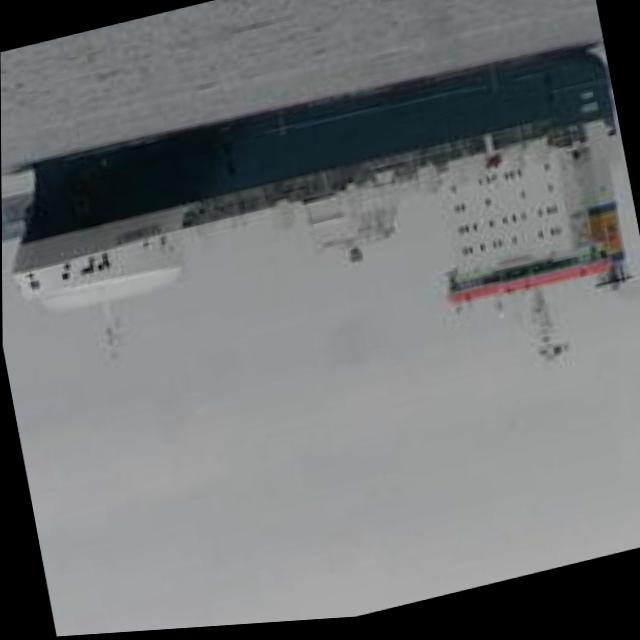ship2: (10, 54, 629, 373)
